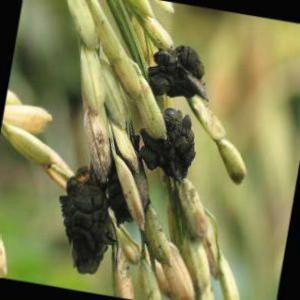Leaf_Scald: (60, 170, 106, 275), (143, 43, 205, 98), (143, 116, 198, 176)
